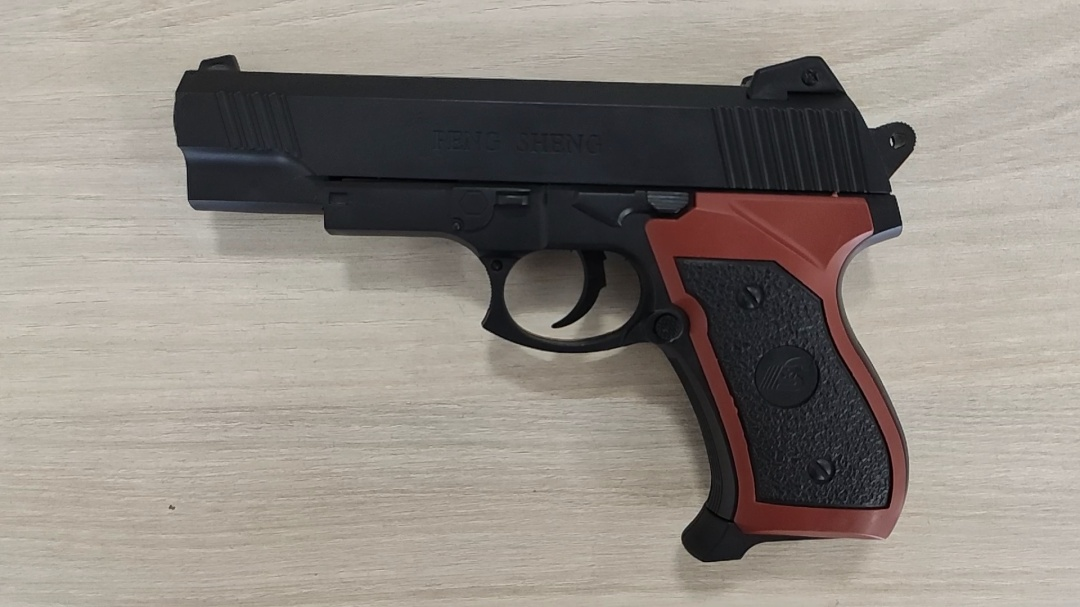gun: (420, 230, 565, 320)
